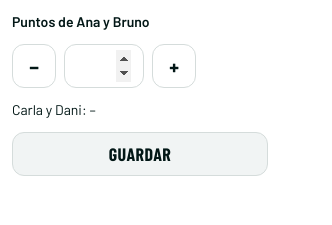
it: ScoreForm › fills team B with what is left and sends team A points
The width and height of the screenshot is (332, 225).
Check: the text "Carla y Dani: –" is shown, box [12, 101, 96, 118]
Type "15" into the number field labelled "Puntos de Ana y Bruno" at [104, 66], box [64, 44, 144, 88]
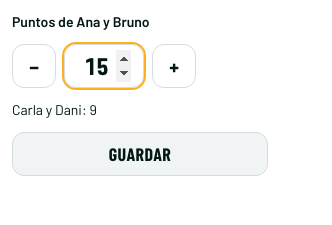
Check: the text "Carla y Dani: 9" is shown, box [12, 101, 97, 118]
Click the button "Guardar" at [140, 154], box [12, 132, 268, 176]
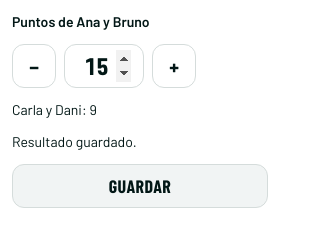
Check: the message reads "Resultado guardado.", box [12, 133, 137, 150]
